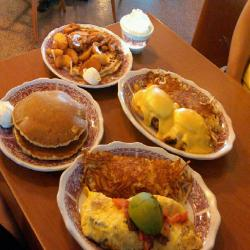chantilly: (116, 7, 155, 40)
omelette: (76, 187, 203, 250)
